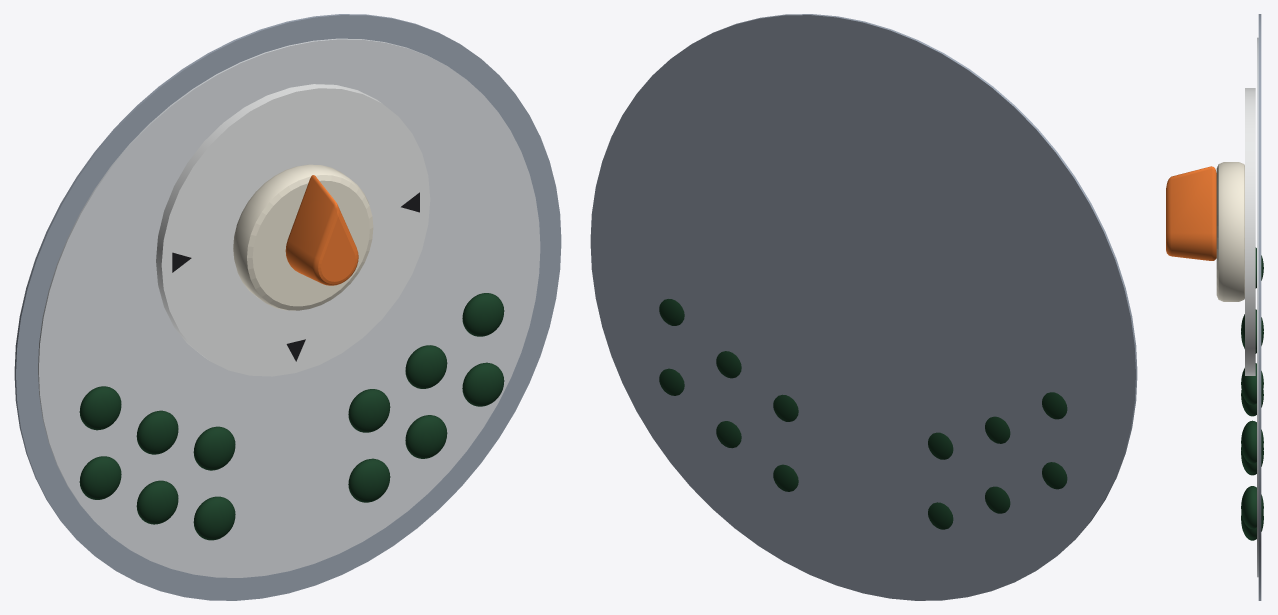
File: knob_module.glb
The picture shows the model from 3 angles, left to right: view 1: azimuth 30°, elevation 25°; view 2: azimuth 150°, elevation 25°; view 3: azimuth 270°, elevation 25°; orthographic projection. The views are drawn at different scales.
Parts seen in each view (by area): view 1: knob_back, knob_dial, knob_edge, part_knob, knob_pointer, knob_led_1_2, knob_led_1_4, knob_led_1_5, knob_led_0_1, knob_led_1_1, knob_led_1_3, knob_led_0_0 (+5 smaller); view 2: knob_edge; view 3: knob_pointer, part_knob, knob_dial, knob_edge, knob_back, knob_led_0_5, knob_led_1_5, knob_led_0_2, knob_led_0_1, knob_led_1_1, knob_led_0_4, knob_led_1_4.
Boxes of the visible parts, x1,y1,x2,y2 form: knob_back: (38, 38, 540, 577); knob_dial: (156, 84, 430, 376); knob_edge: (14, 14, 561, 600); part_knob: (233, 164, 373, 310); knob_pointer: (285, 175, 358, 285); knob_led_1_2: (193, 496, 235, 540); knob_led_1_4: (405, 415, 447, 458); knob_led_1_5: (462, 362, 504, 406); knob_led_0_1: (136, 410, 178, 454); knob_led_1_1: (136, 480, 178, 524); knob_led_1_3: (348, 458, 390, 502); knob_led_0_0: (79, 386, 121, 430); knob_edge: (590, 14, 1137, 600); knob_pointer: (1166, 166, 1216, 260); part_knob: (1216, 162, 1244, 301); knob_dial: (1245, 88, 1255, 375); knob_edge: (1258, 14, 1261, 600); knob_back: (1257, 37, 1258, 577); knob_led_0_5: (1241, 420, 1263, 463); knob_led_1_5: (1241, 486, 1263, 528); knob_led_0_2: (1241, 363, 1263, 404); knob_led_0_1: (1241, 309, 1263, 349); knob_led_1_1: (1241, 390, 1263, 416); knob_led_0_4: (1241, 447, 1263, 473); knob_led_1_4: (1241, 512, 1263, 538).
Size of the model in its own units: 0.67 by 0.67 by 0.1115.
